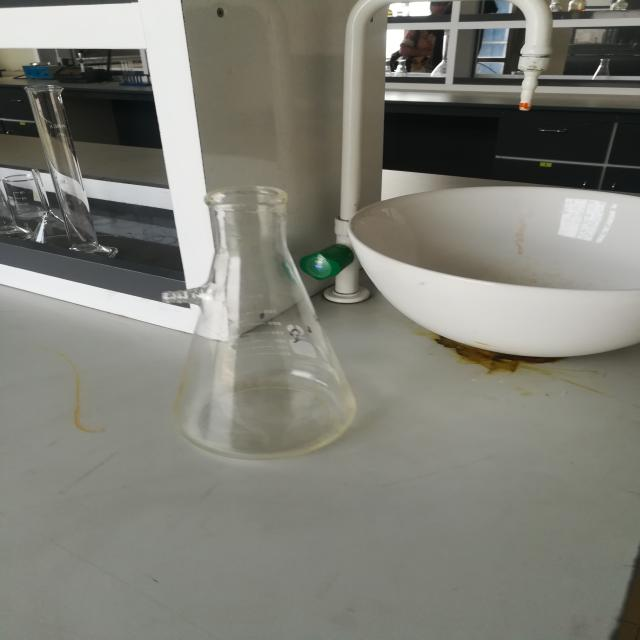Conical_Flask: (140, 162, 389, 490)
